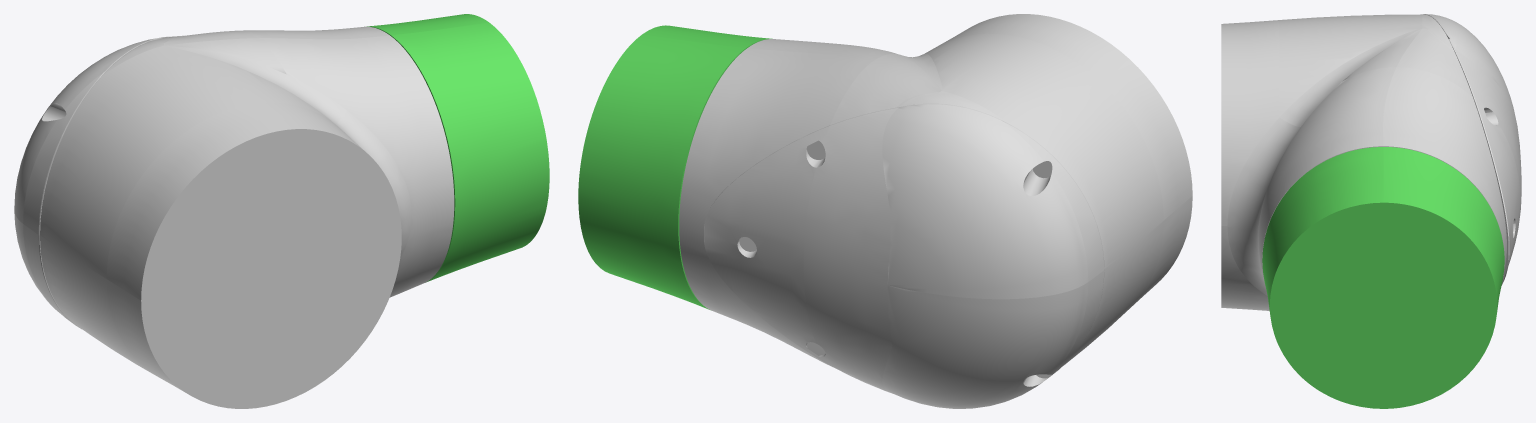
The picture shows the model from 3 angles, left to right: view 1: azimuth 30°, elevation 25°; view 2: azimuth 150°, elevation 25°; view 3: azimuth 270°, elevation 25°; orthographic projection. The views are drawn at different scales.
Visible parts, largest first — view 1: Mesh_0.003; view 2: Mesh_0.003; view 3: Mesh_0.003.
Part boxes in pixels (x1,y1,x2,y2): Mesh_0.003: [14, 14, 549, 408]; Mesh_0.003: [578, 14, 1192, 408]; Mesh_0.003: [1221, 14, 1521, 408].
Bounding box in the file's own units: 0.2235 × 0.1389 × 0.1404.
